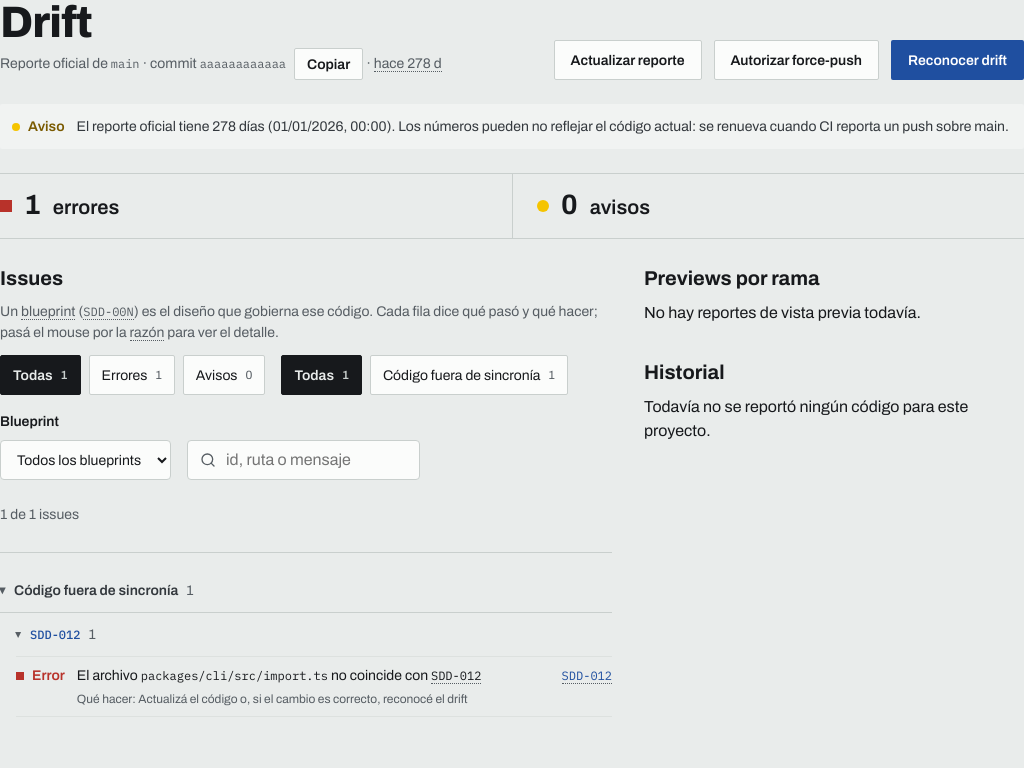
Test: DriftDashboard › acknowledges drift and shows a success toast
The image size is (1024, 768).
Expected: the element named "Issues de drift" is shown, [0,569,612,717]
Click the button "Reconocer drift" at (958, 60), box [891,40,1023,80]
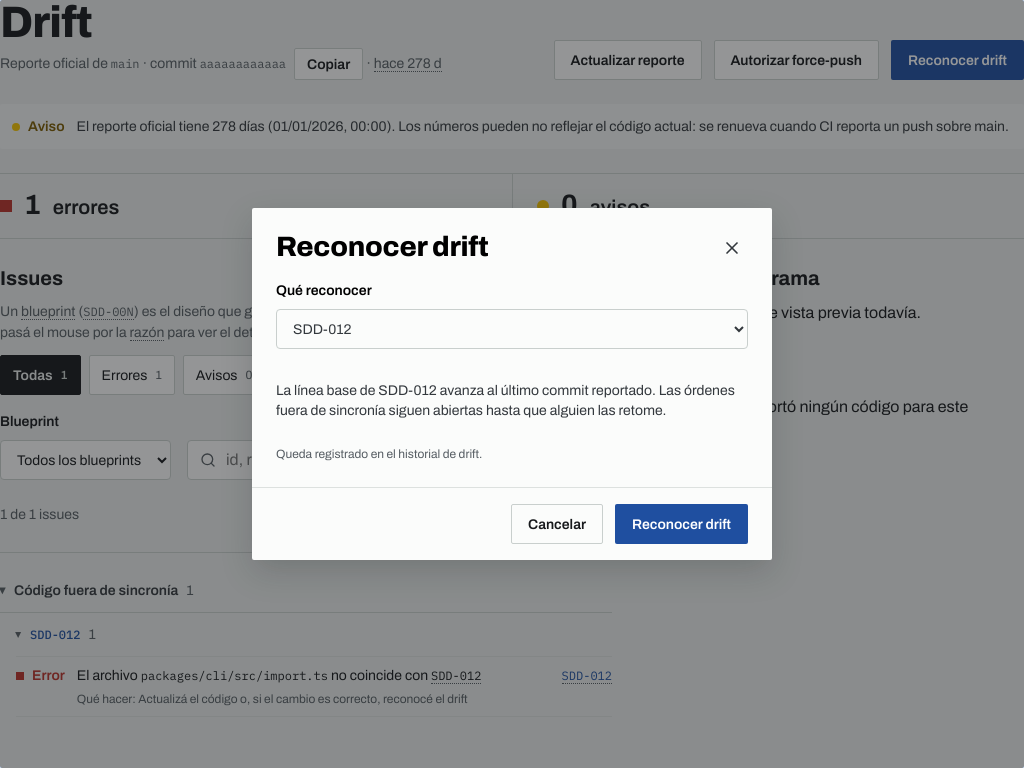
Click the button "Reconocer drift" at (682, 524), box [615,504,748,544]
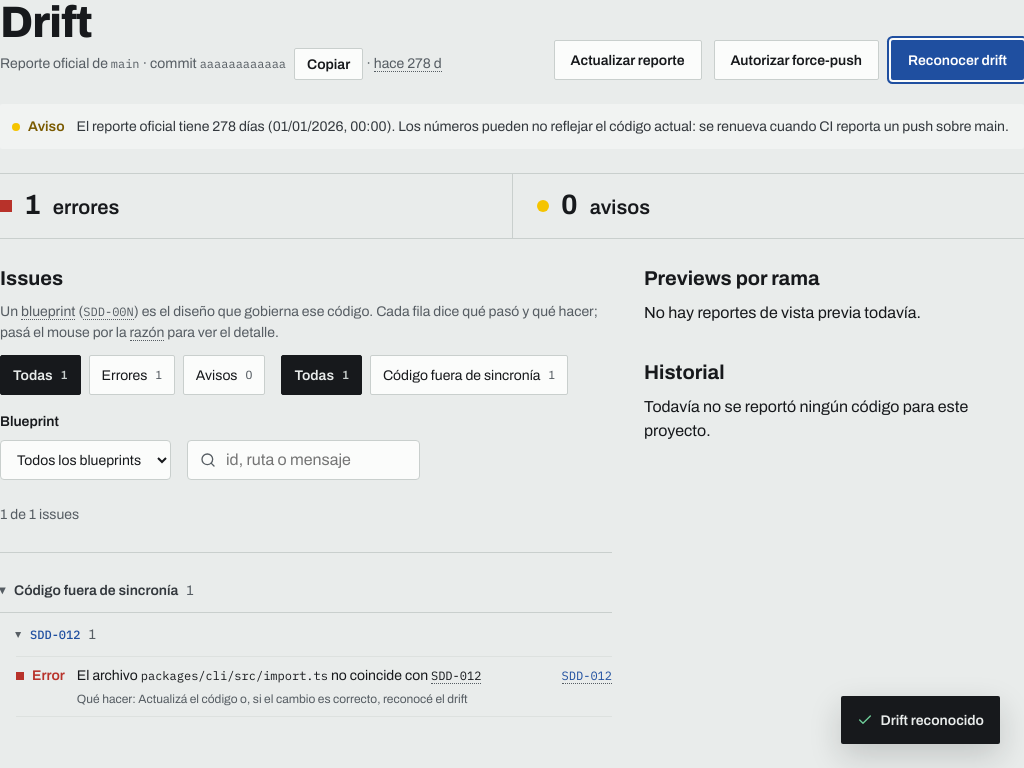
Expected: the text "Drift reconocido" is shown, [840,696,1000,744]
